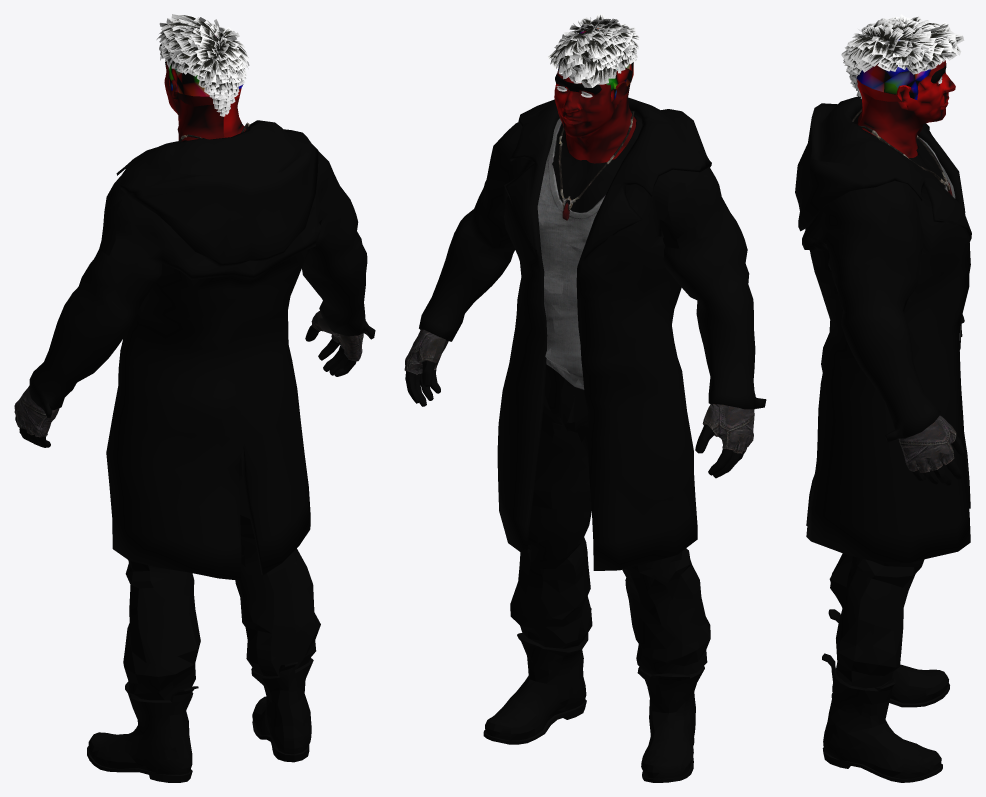
The model's file is Man N060215.FBX.
3 renders of one model, left to right at view 1: azimuth 30°, elevation 25°; view 2: azimuth 150°, elevation 25°; view 3: azimuth 270°, elevation 25°, orthographic.
Parts seen in each view (by area): view 1: dante::3 (×2), dante:9, MaleHeadIMF, dante::2, HandMaleBig3rd, Hairline14; view 2: dante::3 (×2), dante::2, MaleHeadIMF, dante:9, NPC L Thigh [LThg], HandMaleBig3rd; view 3: dante::3 (×2), dante:9, MaleHeadIMF, dante::2, Hairline14, HandMaleBig3rd, NPC L Thigh [LThg].
Boxes of the visible parts, x1,y1,x2,y2 form: dante::3 (×2): (29, 120, 375, 782); dante:9: (156, 14, 249, 116); MaleHeadIMF: (164, 61, 246, 141); dante::2: (14, 122, 363, 437); HandMaleBig3rd: (15, 325, 356, 447); Hairline14: (168, 35, 243, 96); dante::3 (×2): (419, 97, 766, 782); dante::2: (404, 111, 754, 453); MaleHeadIMF: (554, 70, 636, 163); dante:9: (547, 14, 639, 87); NPC L Thigh [LThg]: (552, 113, 642, 212); HandMaleBig3rd: (405, 360, 745, 478); dante::3 (×2): (795, 96, 971, 782); dante:9: (841, 14, 964, 98); MaleHeadIMF: (857, 60, 955, 158); dante::2: (852, 109, 960, 472); Hairline14: (856, 39, 931, 99); HandMaleBig3rd: (912, 314, 964, 485); NPC L Thigh [LThg]: (851, 113, 944, 187).
Size of the model in its own units: 64.95 by 134 by 30.14.
